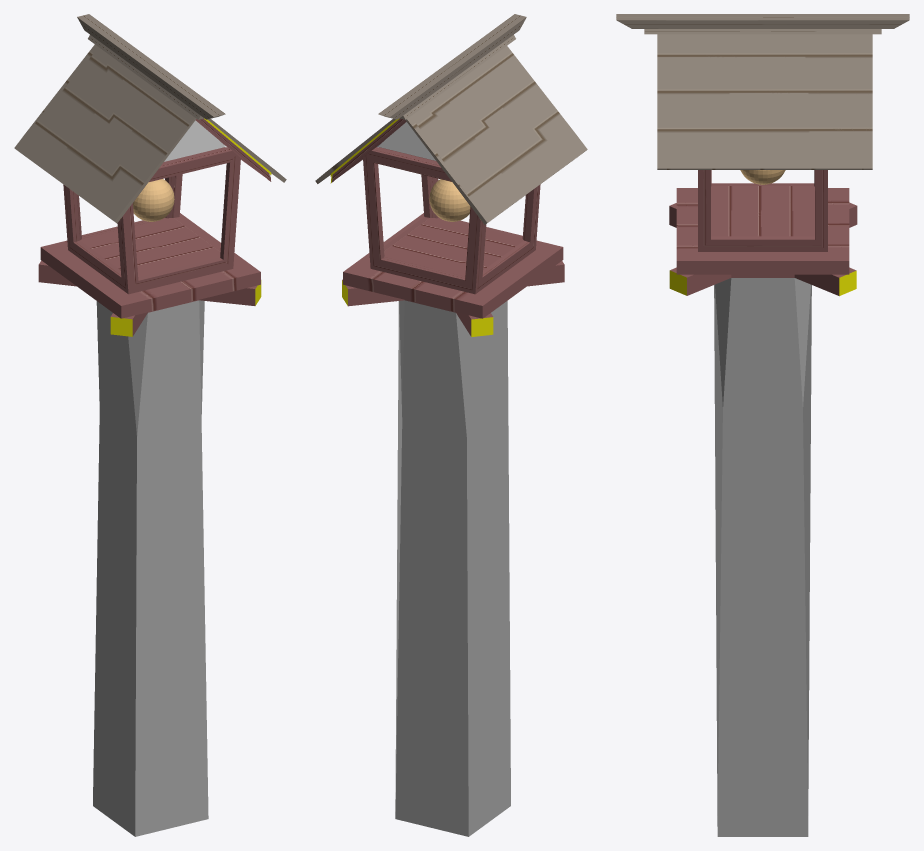
Rendered from lamp.fbx.
3 views of the same model, side by side, from view 1: azimuth 30°, elevation 25°; view 2: azimuth 150°, elevation 25°; view 3: azimuth 270°, elevation 25° (orthographic). The views are drawn at different scales.
Parts seen in each view (by area): view 1: Cube; view 2: Cube; view 3: Cube.
Part boxes in pixels (x1,y1,x2,y2): Cube: (14,14,286,836); Cube: (315,14,587,836); Cube: (616,14,909,836).
Size of the model in its own units: 180 by 752 by 247.
